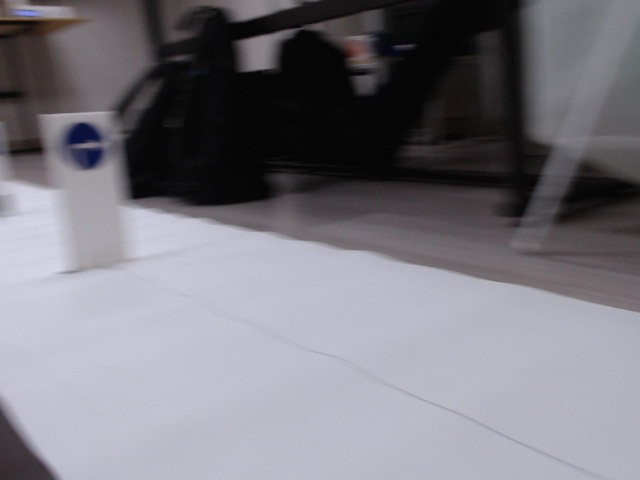Right: (59, 123, 104, 169)
